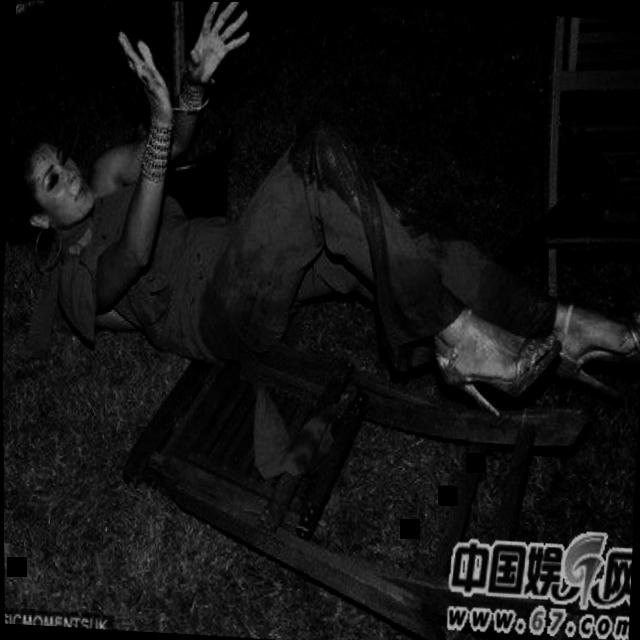Fall-Detected: (0, 18, 640, 443)
